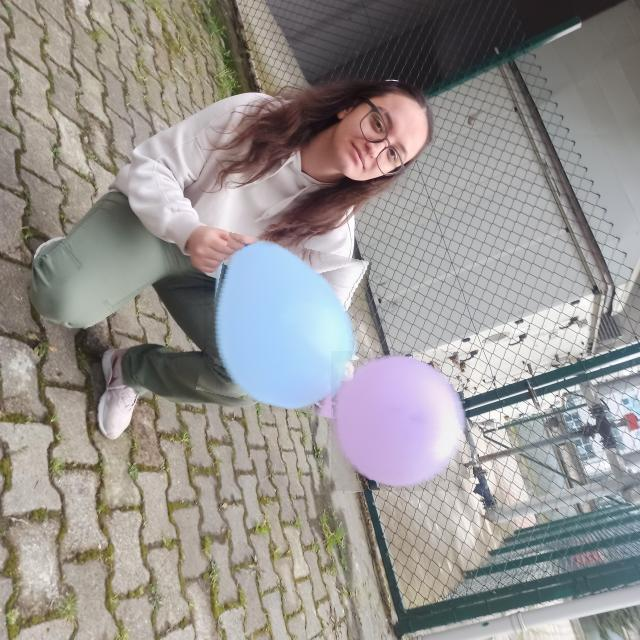balloon: (204, 239, 364, 412), (331, 351, 470, 491)
